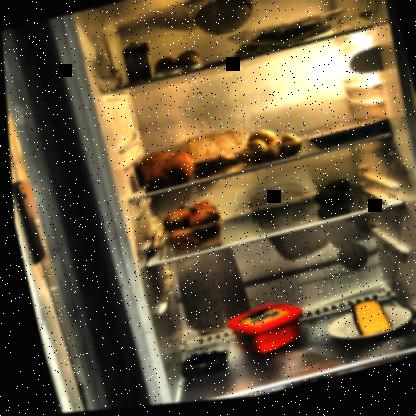blueberries: (167, 340, 232, 385)
butter: (217, 297, 308, 368)
cheese: (344, 300, 391, 345)
chicken: (293, 116, 387, 159)
eggs: (148, 49, 204, 81)
green_beans: (228, 18, 340, 67)
heavy_cream: (119, 39, 155, 87)
lime: (305, 181, 356, 219)
onion: (153, 198, 226, 263)
potato: (226, 124, 301, 174)
sweet_potato: (129, 146, 196, 194)
